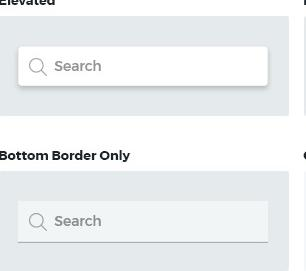field: (16, 199, 270, 244), (17, 45, 269, 88)
